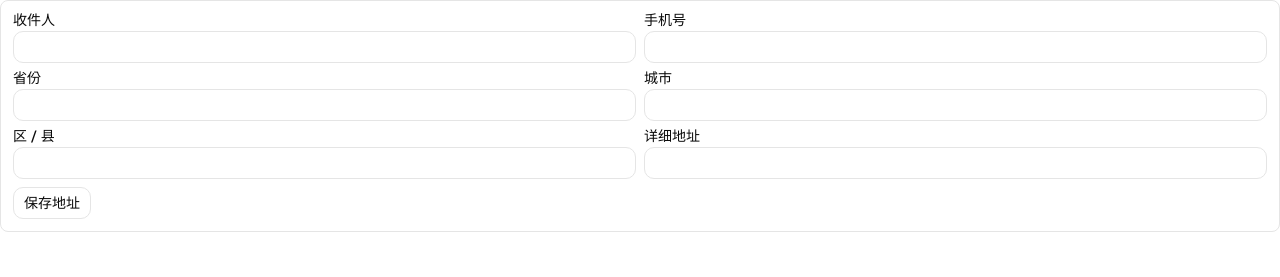
Test: 地址表单 › 后端拒绝时显示后端返回的 message
Type "张三" into the field labelled "收件人".
click(324, 47); type("张三")  # box [13,31,636,63]
Type "13800000000" into the field labelled "手机号".
click(956, 47); type("13800000000")  # box [644,31,1267,63]
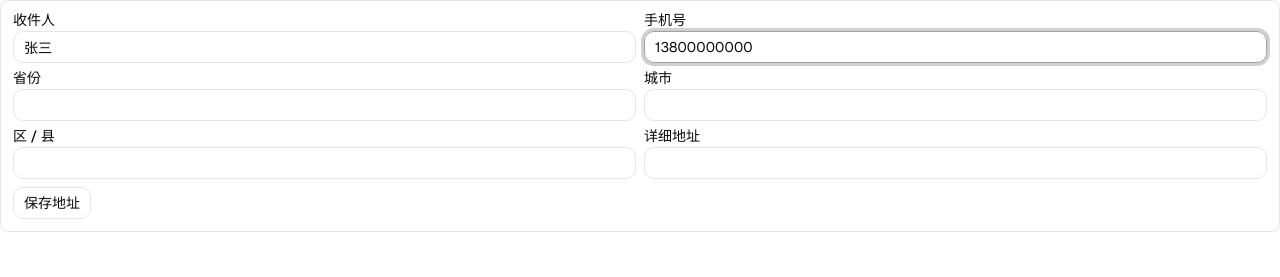
Type "浙江省" into the field labelled "省份".
click(324, 105); type("浙江省")  # box [13,89,636,121]
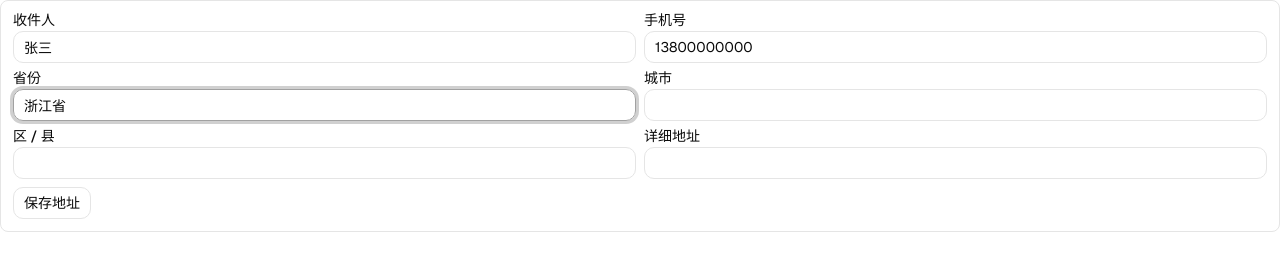
Type "杭州市" into the field labelled "城市".
click(956, 105); type("杭州市")  # box [644,89,1267,121]
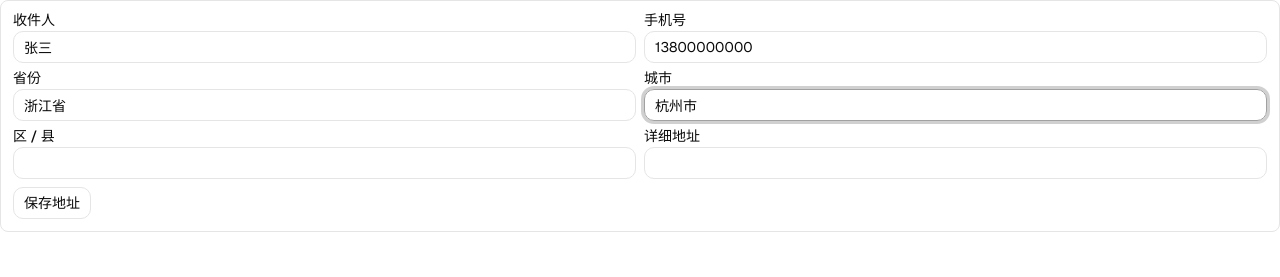
Type "西湖区" into the field labelled "区 / 县".
click(324, 163); type("西湖区")  # box [13,147,636,179]
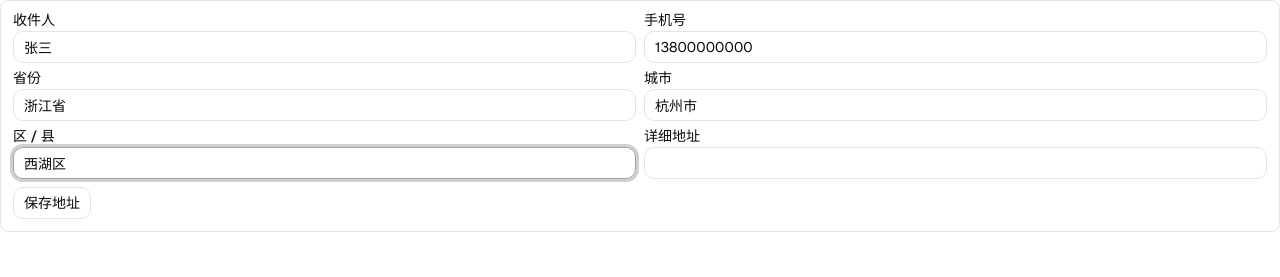
Type "文一西路 100 号" into the field labelled "详细地址".
click(956, 163); type("文一西路 100 号")  # box [644,147,1267,179]
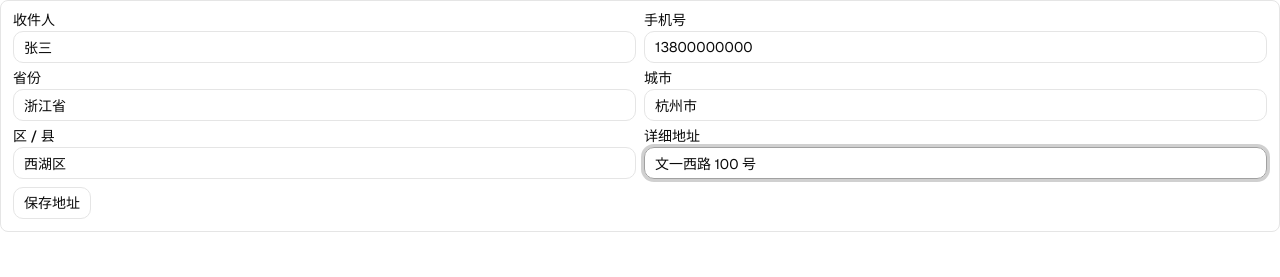
Click the button "保存地址".
click(52, 203)  # box [13,187,91,219]
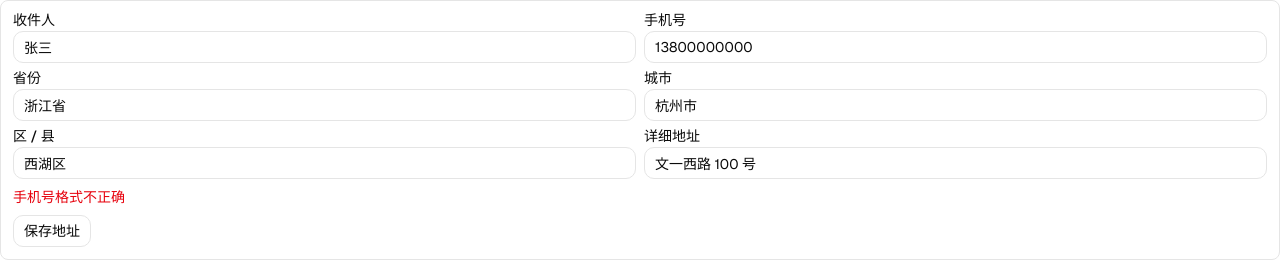
Expected: the text "手机号格式不正确" is shown, [13,188,125,206]
